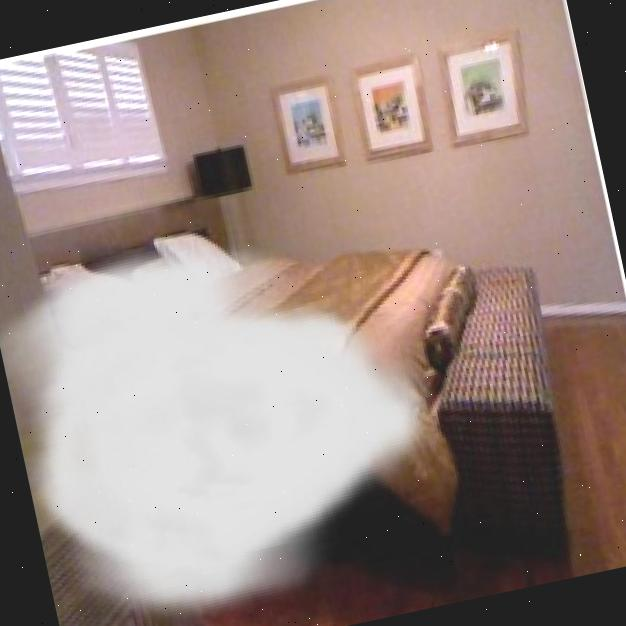smoke: (0, 194, 471, 626)
